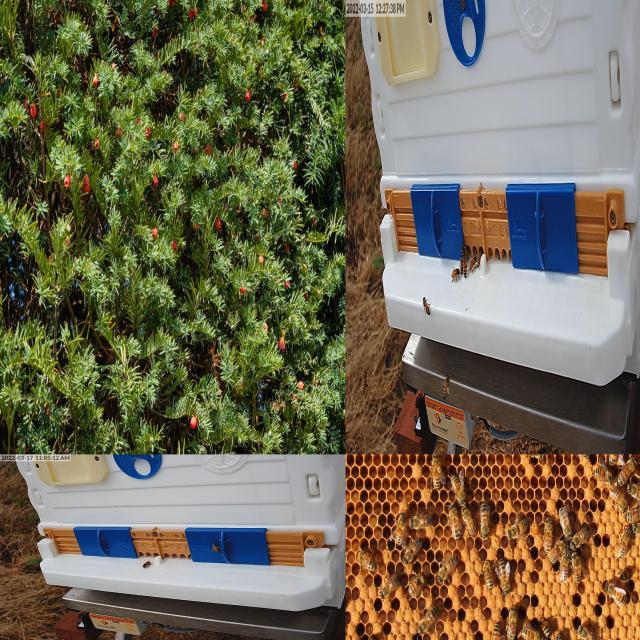honeybee: (502, 509, 530, 546), (446, 471, 470, 511), (426, 454, 448, 488), (390, 510, 407, 550), (496, 556, 512, 595), (438, 553, 458, 584), (402, 533, 423, 562), (604, 581, 629, 605), (416, 608, 439, 634), (617, 456, 638, 484), (594, 459, 616, 485), (448, 502, 462, 542), (571, 553, 588, 585), (378, 574, 401, 597), (610, 486, 628, 515), (358, 548, 378, 573), (406, 571, 425, 597), (461, 506, 477, 536), (558, 506, 572, 540), (617, 522, 631, 556), (480, 499, 491, 541), (570, 528, 591, 550), (541, 514, 553, 552), (560, 545, 573, 579), (550, 540, 570, 562), (506, 604, 517, 640), (409, 514, 432, 530), (483, 561, 495, 589), (518, 626, 542, 640), (625, 480, 640, 502), (576, 625, 598, 640), (441, 374, 453, 400), (624, 507, 640, 526), (490, 620, 504, 640), (538, 620, 552, 638), (468, 252, 479, 274), (524, 452, 546, 463), (620, 567, 632, 582), (449, 266, 460, 282), (462, 256, 469, 279), (423, 296, 431, 316), (611, 453, 623, 466), (461, 244, 470, 260), (477, 249, 483, 268), (142, 560, 152, 570), (212, 544, 222, 554), (552, 632, 562, 640)
